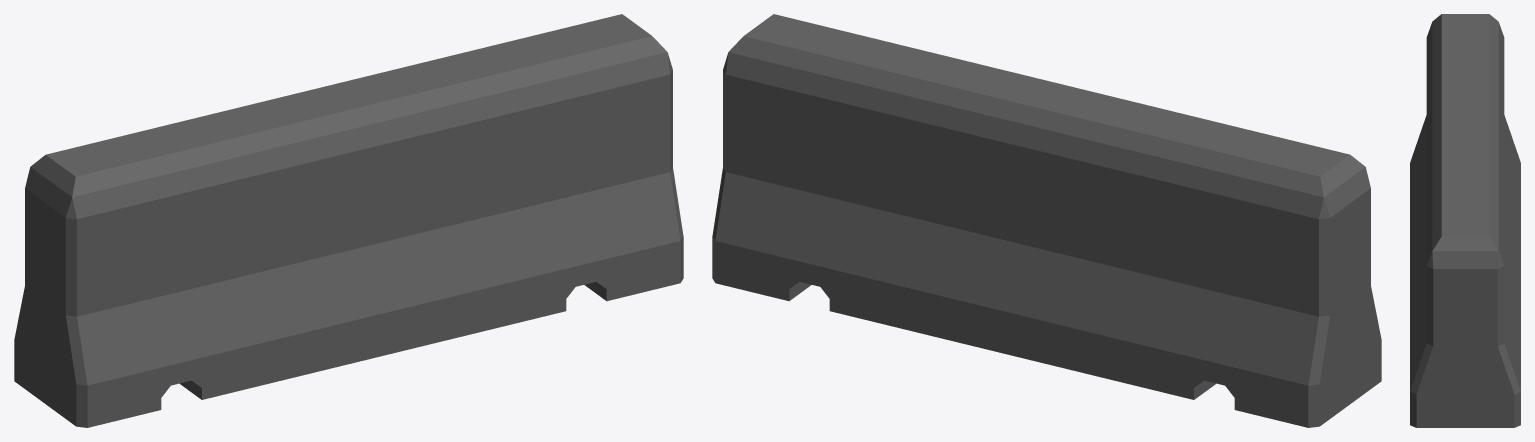
Rendered from barricade1.fbx.
3 renders of one model, left to right at view 1: azimuth 30°, elevation 25°; view 2: azimuth 150°, elevation 25°; view 3: azimuth 270°, elevation 25°, orthographic. The views are drawn at different scales.
Visible parts, largest first — view 1: Cube.008; view 2: Cube.008; view 3: Cube.008.
Part boxes in pixels (x1=…): Cube.008: x1=14, y1=14, x2=683, y2=427; Cube.008: x1=712, y1=14, x2=1381, y2=427; Cube.008: x1=1410, y1=14, x2=1520, y2=427.
Bounding box in the file's own units: 300 × 111 × 60.
